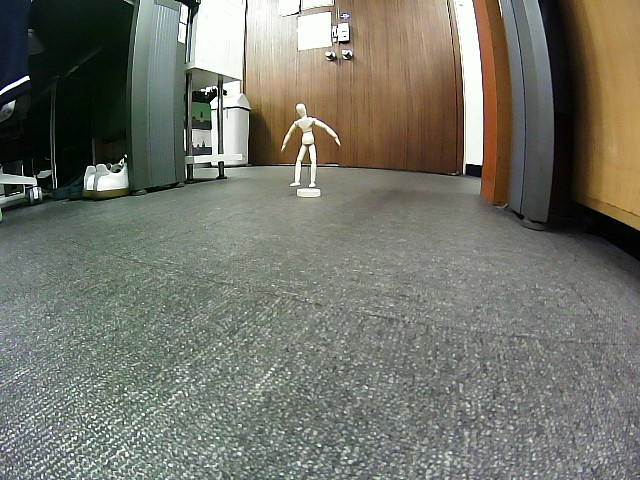person: (280, 103, 340, 188)
